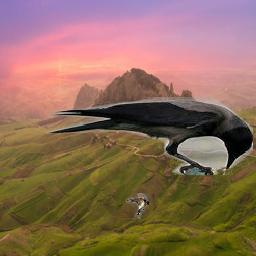Crow: (47, 97, 254, 175)
Swallow: (127, 193, 150, 219)
